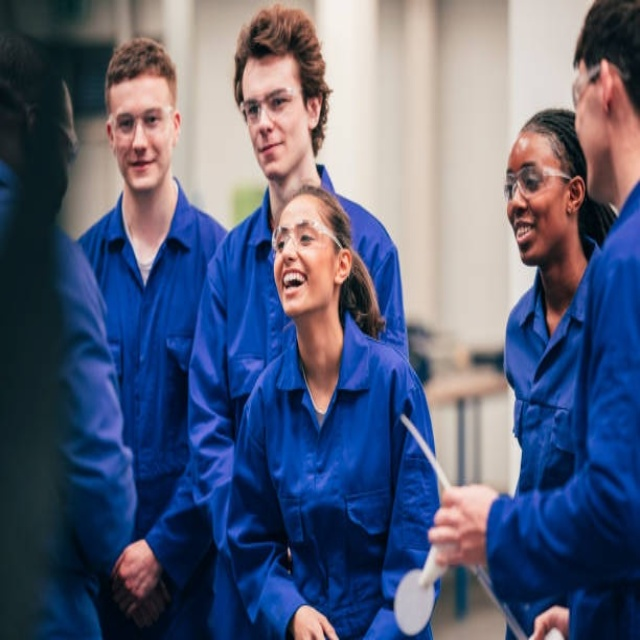Gafas: (269, 218, 344, 256), (239, 86, 304, 127), (501, 164, 574, 200), (44, 110, 82, 165), (109, 107, 174, 139), (572, 63, 612, 108)
Sin_guantes: (426, 478, 493, 566), (110, 536, 161, 598), (289, 599, 340, 638)
Sin_mascara: (281, 268, 308, 293), (512, 220, 535, 245), (128, 158, 156, 172), (259, 142, 282, 156)
